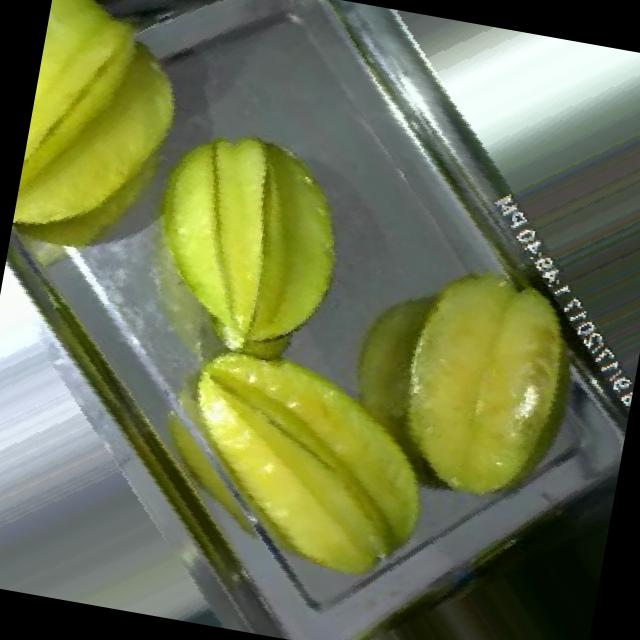fruit: (117, 270, 502, 640), (297, 203, 640, 560), (71, 66, 416, 411), (3, 0, 241, 304)
